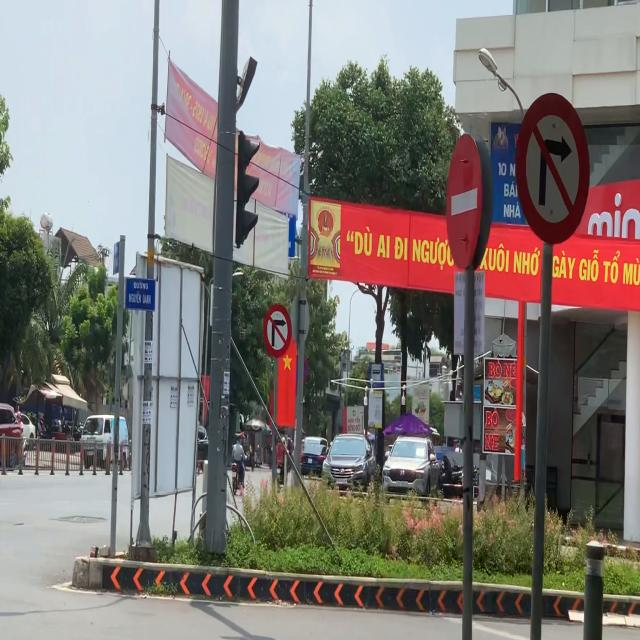Cam nguoc chieu: (444, 131, 484, 271)
Cam re phai: (515, 91, 590, 248), (263, 303, 292, 357)
